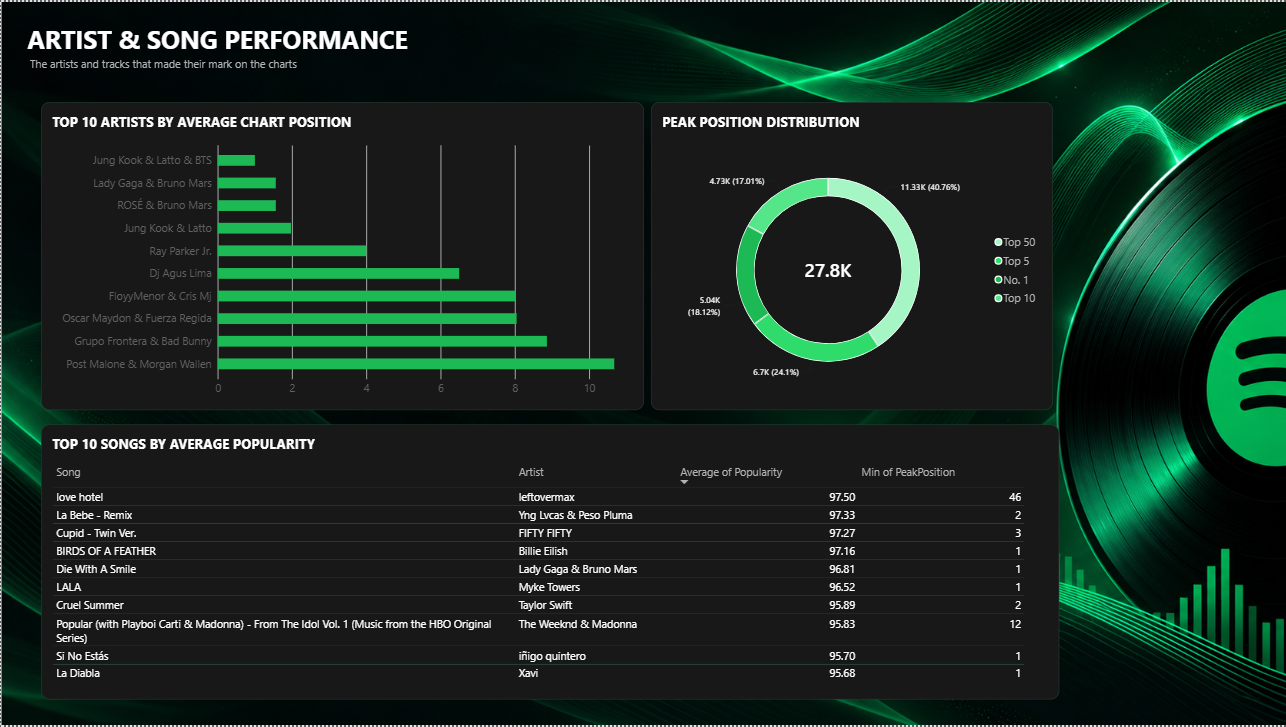

The page's visual inventory and layout, read from the dashboard file:
{"tool":"powerbi","page":{"name":"Artist & Song Performance","canvas":[1920,1080],"ordinal":2},"visuals":[{"type":"image","box":[0,0,1920.4,1080],"z":0},{"type":"textbox","box":[40,30,750,50],"z":1000},{"type":"textbox","box":[42,80,650,28],"z":2000},{"type":"clusteredBarChart","title":"TOP 10 ARTISTS BY AVERAGE CHART POSITION","fields":{"Category":["FactSpotifyChart.Artist"],"Y":["Avg(FactSpotifyChart.Position)"]},"box":[60,150,900,460],"z":3000},{"type":"donutChart","title":"PEAK POSITION DISTRIBUTION","fields":{"Category":["FactSpotifyChart.Peak Position Band"],"Y":["CountNonNull(FactSpotifyChart.ChartDate)"]},"box":[970,150,600,460],"z":4000},{"type":"tableEx","title":"TOP 10 SONGS BY AVERAGE POPULARITY","fields":{"Values":["FactSpotifyChart.Song","FactSpotifyChart.Artist","Avg(FactSpotifyChart.Popularity)","Min(FactSpotifyChart.PeakPosition)"]},"box":[60,630,1520,410],"z":5000}]}

Visuals, with their boxes in screenshot pixels (x1, y1, x2, y2), scaled from the page's 1920x1080 canvas onto the 1286x727 screenshot:
image: (0,0,1285,726)
textbox: (27,20,529,54)
textbox: (28,54,463,73)
"TOP 10 ARTISTS BY AVERAGE CHART POSITION" clusteredBarChart: (40,101,643,411)
"PEAK POSITION DISTRIBUTION" donutChart: (650,101,1052,411)
"TOP 10 SONGS BY AVERAGE POPULARITY" tableEx: (40,424,1058,700)
